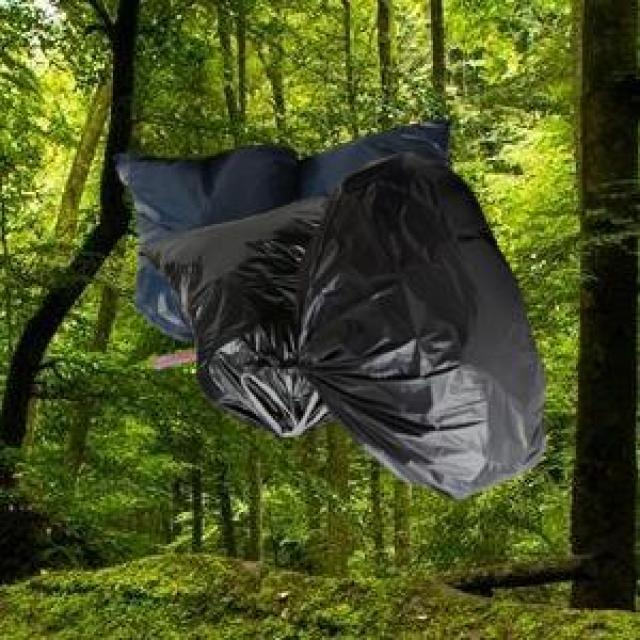Trashbag: (316, 180, 542, 472), (123, 192, 330, 444)
